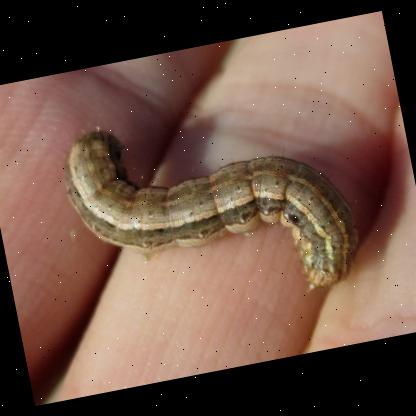Fall Armyworm Larvae: (50, 75, 378, 342)
